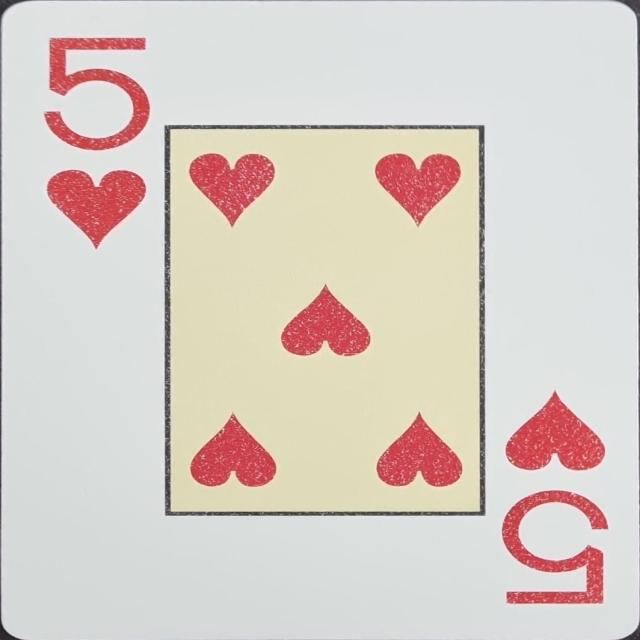5h: (499, 385, 611, 611), (44, 34, 156, 253)
